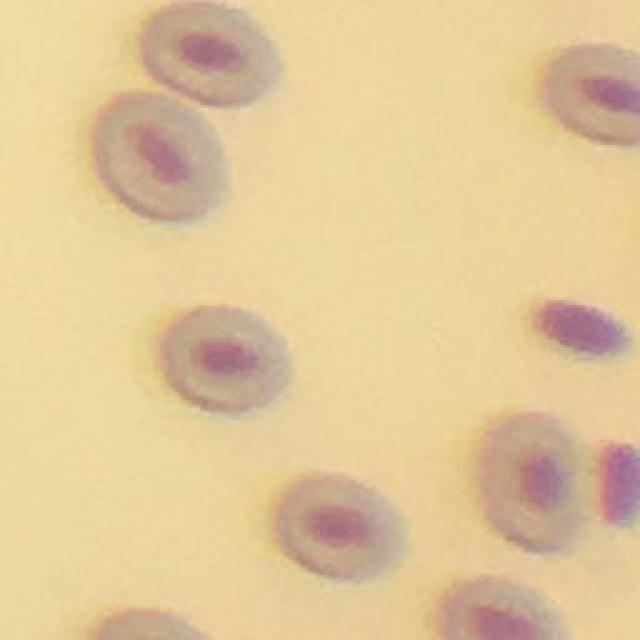RBC: (94, 92, 226, 219), (140, 2, 280, 105), (479, 412, 581, 551), (161, 306, 289, 412), (276, 474, 404, 580), (545, 44, 640, 144), (440, 579, 568, 640)
WBC: (538, 301, 626, 354), (602, 445, 640, 521)
